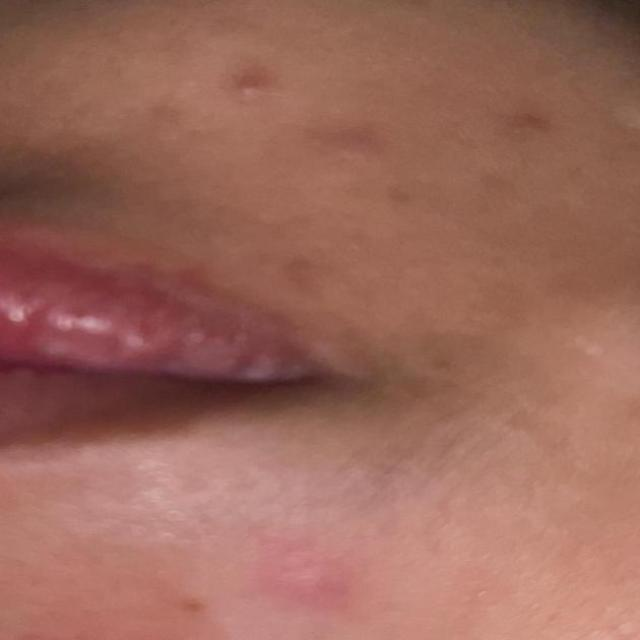papule: (248, 106, 422, 189), (246, 549, 397, 621)
pustule: (223, 62, 286, 117)
